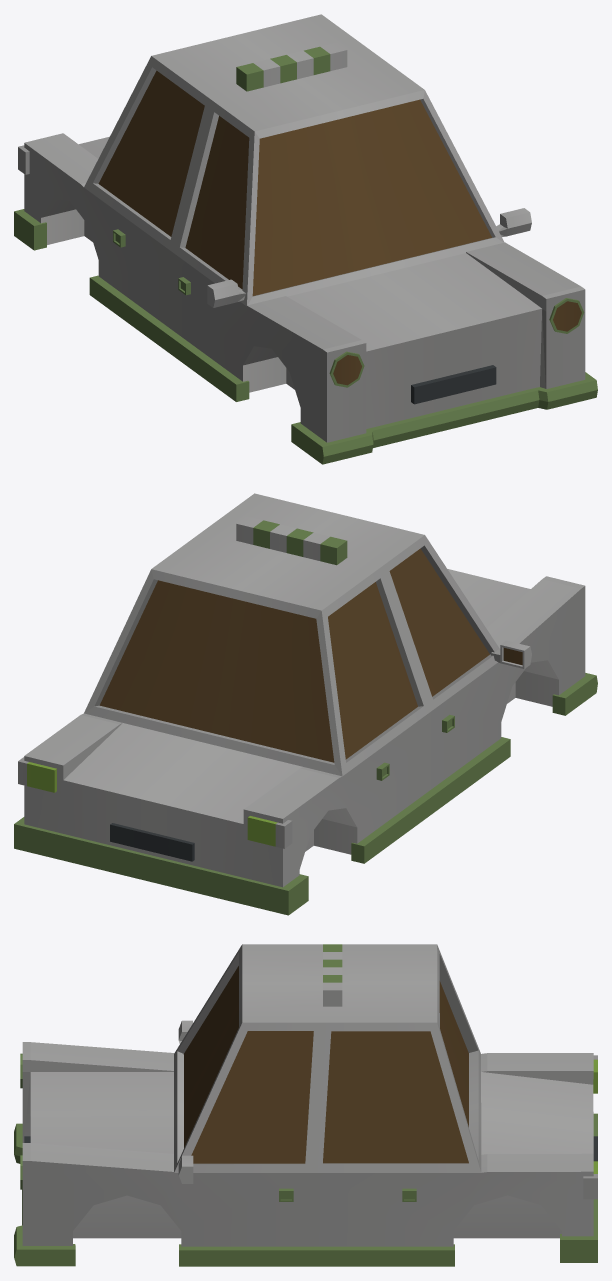
The model's file is Car_08.fbx.
The picture shows the model from 3 angles, top to bottom: view 1: azimuth 30°, elevation 25°; view 2: azimuth 150°, elevation 25°; view 3: azimuth 270°, elevation 25°; orthographic projection. The views are drawn at different scales.
Visible parts, largest first — view 1: Car_08; view 2: Car_08; view 3: Car_08.
Boxes of the visible parts, x1,y1,x2,y2 form: Car_08: (14,14,597,464); Car_08: (14,493,597,915); Car_08: (14,944,597,1266).
Bounding box in the file's own units: 1.96 × 1.48 × 3.32.
